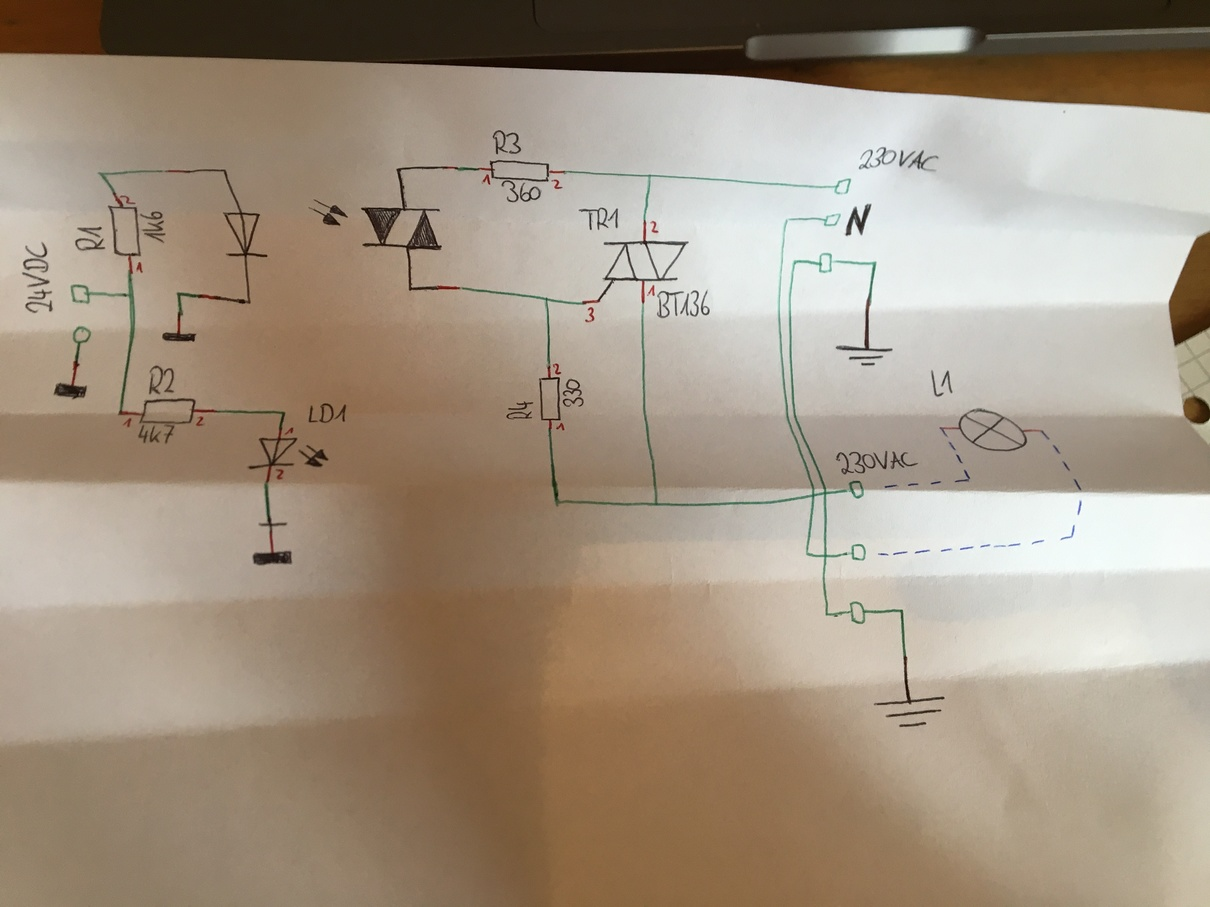crossover: (821, 549, 831, 562), (808, 490, 818, 500), (821, 487, 830, 498)
diode.light_emitting: (246, 434, 330, 470)
gnd: (872, 690, 951, 732), (833, 341, 897, 369), (50, 376, 92, 404), (250, 546, 297, 571), (160, 327, 199, 346)
junction: (551, 496, 564, 508), (243, 295, 255, 307), (541, 294, 554, 305), (94, 168, 107, 179), (115, 406, 126, 419), (937, 423, 948, 435), (790, 256, 801, 268), (651, 498, 662, 510), (405, 283, 417, 294), (126, 289, 138, 300), (962, 474, 975, 484), (896, 606, 909, 616), (645, 171, 656, 182), (393, 164, 404, 175), (174, 288, 185, 299), (869, 258, 880, 269), (783, 214, 793, 226), (803, 548, 813, 559), (278, 408, 289, 418), (219, 166, 231, 175), (1067, 531, 1077, 541), (822, 609, 832, 619), (1036, 426, 1046, 435), (595, 295, 604, 305)
lamp: (957, 406, 1030, 452)
optocoupler: (221, 195, 447, 264)
resistor: (106, 203, 143, 258), (137, 397, 197, 425), (489, 158, 552, 184), (537, 375, 563, 424)
terminal: (68, 282, 93, 306), (70, 324, 93, 345), (832, 176, 852, 196), (822, 211, 842, 229)
text: (857, 143, 943, 175), (20, 240, 55, 316), (834, 449, 921, 476), (655, 288, 713, 320), (304, 400, 350, 426), (842, 201, 874, 238), (577, 206, 621, 232), (139, 208, 168, 246), (500, 180, 543, 204), (73, 223, 108, 252), (146, 363, 177, 395), (491, 128, 524, 156), (928, 366, 956, 398), (136, 424, 177, 445), (561, 377, 585, 409), (504, 399, 536, 421), (582, 305, 597, 324), (119, 192, 137, 206), (550, 177, 565, 191), (273, 467, 287, 481), (648, 219, 661, 234), (135, 259, 146, 276), (480, 173, 492, 188), (283, 425, 297, 436), (195, 414, 206, 428), (646, 283, 656, 298), (555, 421, 567, 433), (122, 416, 133, 429), (552, 361, 562, 375)
triac: (597, 236, 690, 293)
